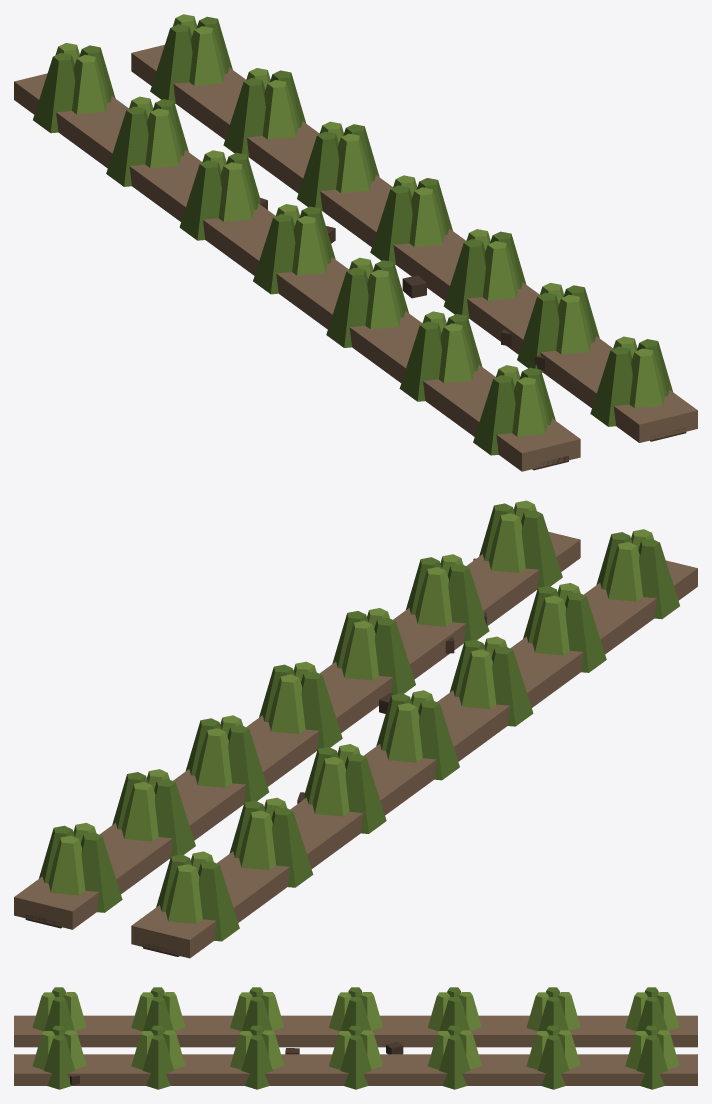
Rendered from crop_herbs_3.glb.
3 views of the same model, one above another, from view 1: azimuth 30°, elevation 25°; view 2: azimuth 150°, elevation 25°; view 3: azimuth 270°, elevation 25° (orthographic). The views are drawn at different scales.
Visible parts, largest first — view 1: room_crop_herbs_3; view 2: room_crop_herbs_3; view 3: room_crop_herbs_3.
Boxes of the visible parts, left/top/right/bottom form: room_crop_herbs_3: left=14, top=14, right=697, bottom=471; room_crop_herbs_3: left=14, top=500, right=697, bottom=958; room_crop_herbs_3: left=14, top=987, right=697, bottom=1089.
Bounding box in the file's own units: 0.6627 × 0.215 × 3.
